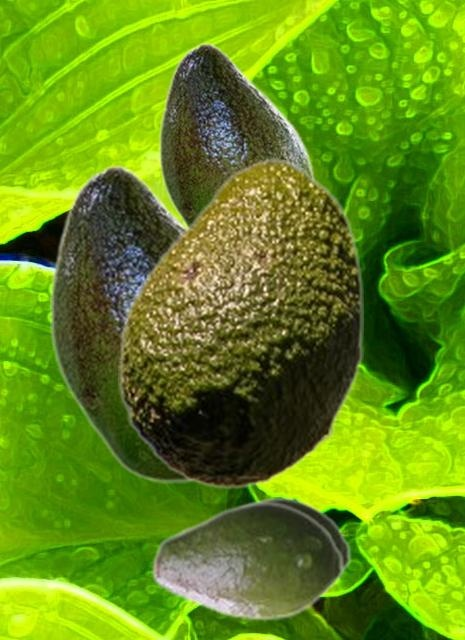avocado: (118, 158, 362, 489), (50, 164, 186, 482), (159, 42, 314, 226), (151, 500, 344, 621), (233, 496, 351, 580)
